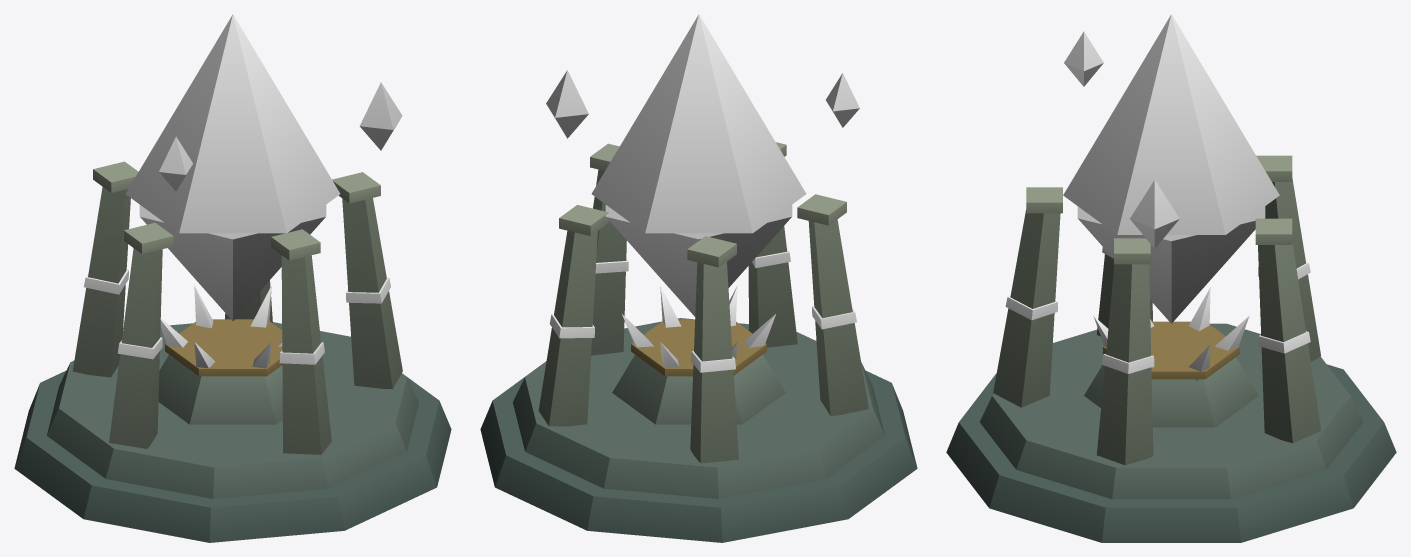
File: core.glb
3 renders of one model, left to right at view 1: azimuth 30°, elevation 25°; view 2: azimuth 150°, elevation 25°; view 3: azimuth 270°, elevation 25°, orthographic.
Visible parts, largest first — view 1: CoreBody, CoreCrystal, CoreGlow; view 2: CoreBody, CoreCrystal, CoreGlow; view 3: CoreBody, CoreCrystal, CoreGlow.
Boxes of the visible parts, x1,y1,x2,y2 form: CoreBody: (14,161,451,542); CoreCrystal: (125,14,402,320); CoreGlow: (84,269,390,375); CoreBody: (480,142,917,542); CoreCrystal: (546,14,859,316); CoreGlow: (549,247,856,375); CoreBody: (946,155,1396,542); CoreCrystal: (1063,14,1279,323); CoreGlow: (1005,247,1310,381).
Bounding box in the file's own units: 5.14 × 5.8 × 5.4.
